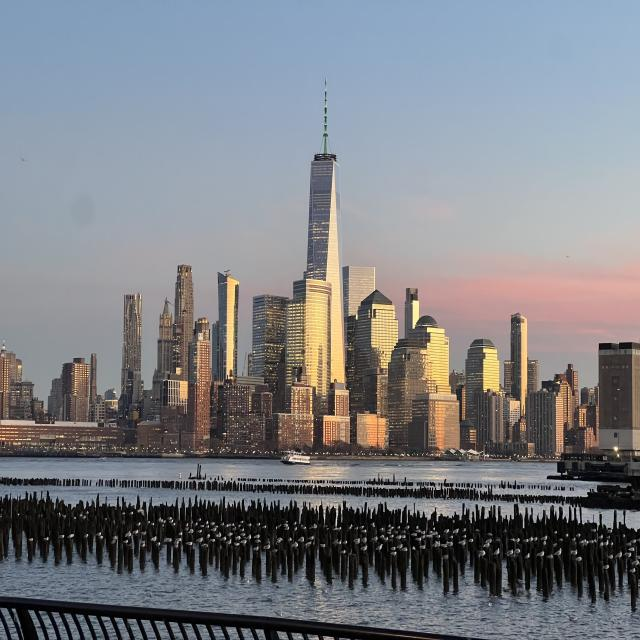WTC: (306, 79, 341, 282)
